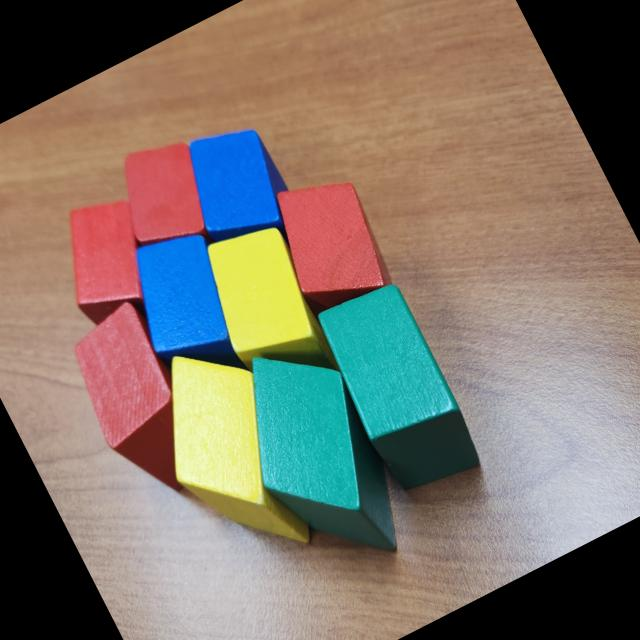blue: (107, 216, 270, 409), (164, 112, 308, 272)
green: (206, 322, 425, 592), (307, 274, 489, 507)
red: (55, 296, 226, 511), (256, 160, 404, 327), (36, 183, 176, 334), (100, 126, 229, 262)
yellow: (126, 327, 335, 583), (186, 212, 349, 406)
